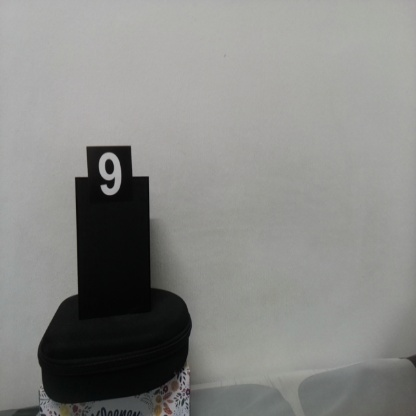id_9: (87, 146, 133, 215)
